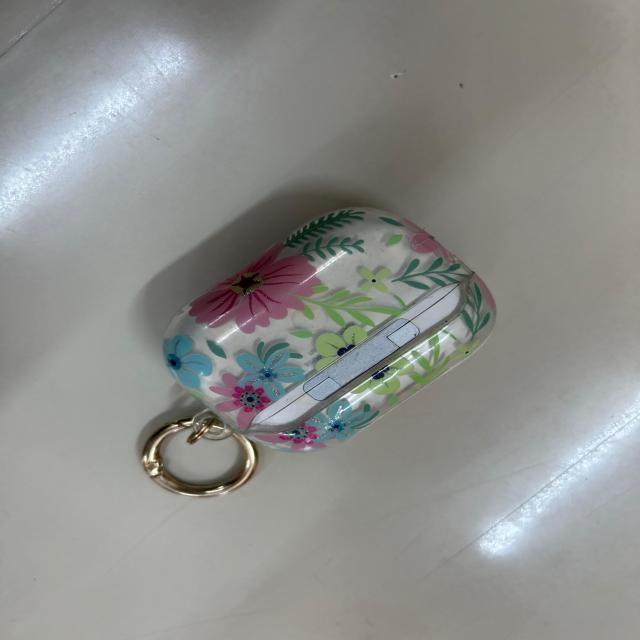inorganic: (138, 203, 502, 500)
